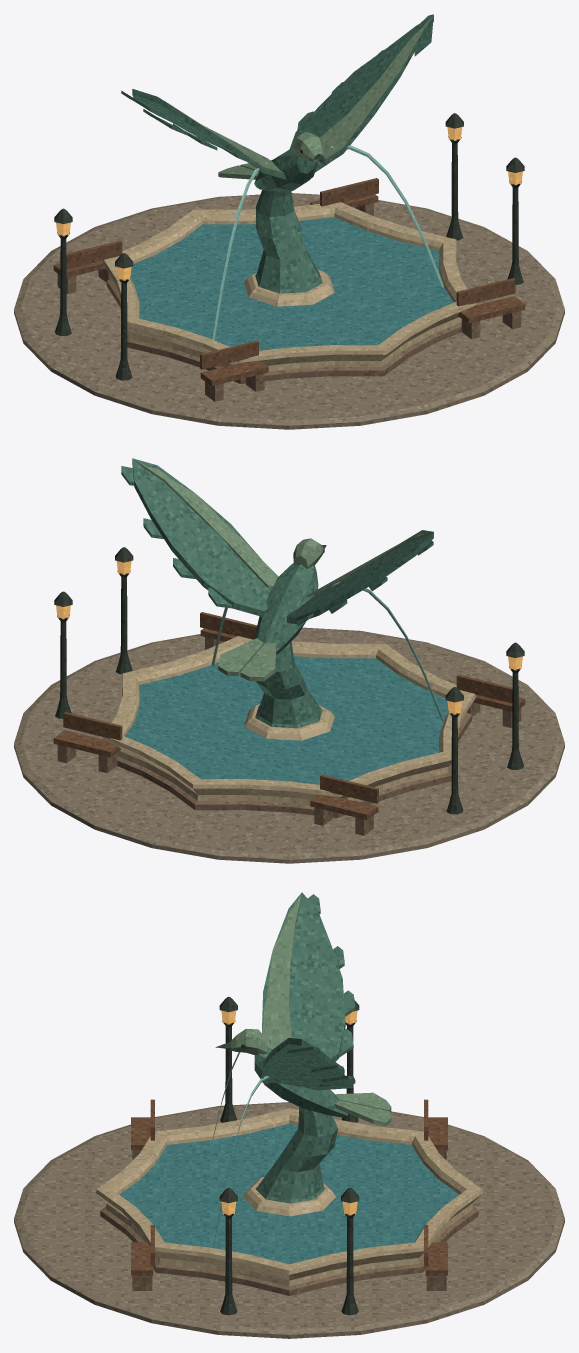
File: dove-fountain-mid.glb
3 renders of one model, top to bottom at view 1: azimuth 30°, elevation 25°; view 2: azimuth 150°, elevation 25°; view 3: azimuth 270°, elevation 25°, orthographic.
Visible parts, largest first — view 1: Raised circular paving, water_basin_surface, Shell basin wall, Bronze wave supporting the dove, Upturned wing.001, Lower stone course, Leading edge.001, Upturned wing, Rising dove breast, Stone wave collar, Bench seat, Bench seat.002 (+12 smaller); view 2: Raised circular paving, water_basin_surface, Shell basin wall, Upturned wing.001, Bronze wave supporting the dove, Lower stone course, Rising dove breast, Upturned wing, Leading edge.001, Stone wave collar, Bench seat.001, Bench seat.003 (+13 smaller); view 3: Raised circular paving, water_basin_surface, Shell basin wall, Upturned wing, Bronze wave supporting the dove, Lower stone course, Leading edge, Upturned wing.001, Rising dove breast, Stone wave collar, Iron lantern shaft.002, Iron lantern shaft.003 (+8 smaller).
Part boxes in pixels (bbox=[...]): Raised circular paving: bbox=[14, 193, 564, 429]; water_basin_surface: bbox=[130, 217, 453, 350]; Shell basin wall: bbox=[102, 202, 476, 371]; Bronze wave supporting the dove: bbox=[255, 190, 322, 293]; Upturned wing.001: bbox=[289, 15, 433, 172]; Lower stone course: bbox=[106, 278, 461, 384]; Leading edge.001: bbox=[316, 16, 433, 167]; Upturned wing: bbox=[132, 89, 286, 179]; Rising dove breast: bbox=[254, 147, 317, 191]; Stone wave collar: bbox=[244, 270, 334, 306]; Bench seat: bbox=[200, 361, 268, 385]; Bench seat.002: bbox=[458, 296, 525, 323]; Raised circular paving: bbox=[14, 627, 564, 863]; water_basin_surface: bbox=[125, 656, 448, 784]; Shell basin wall: bbox=[102, 636, 476, 805]; Upturned wing.001: bbox=[132, 458, 271, 616]; Bronze wave supporting the dove: bbox=[255, 641, 322, 728]; Lower stone course: bbox=[117, 712, 472, 818]; Rising dove breast: bbox=[254, 563, 318, 654]; Upturned wing: bbox=[287, 530, 433, 623]; Leading edge.001: bbox=[134, 459, 278, 588]; Stone wave collar: bbox=[244, 704, 334, 740]; Bench seat.001: bbox=[310, 795, 378, 819]; Bench seat.003: bbox=[53, 730, 120, 757]; Raised circular paving: bbox=[14, 1102, 564, 1338]; water_basin_surface: bbox=[119, 1123, 459, 1264]; Shell basin wall: bbox=[96, 1108, 482, 1286]; Upturned wing: bbox=[262, 892, 345, 1061]; Bronze wave supporting the dove: bbox=[256, 1106, 337, 1203]; Lower stone course: bbox=[100, 1206, 478, 1295]; Leading edge: bbox=[262, 892, 301, 1049]; Upturned wing.001: bbox=[261, 1038, 345, 1090]; Rising dove breast: bbox=[254, 1047, 347, 1118]; Stone wave collar: bbox=[242, 1177, 336, 1216]; Iron lantern shaft.002: bbox=[220, 1211, 237, 1315]; Iron lantern shaft.003: bbox=[341, 1211, 358, 1315].
Size of the model in its own units: 11.9 by 6.12 by 11.9.
12 materials, 12 textured.
